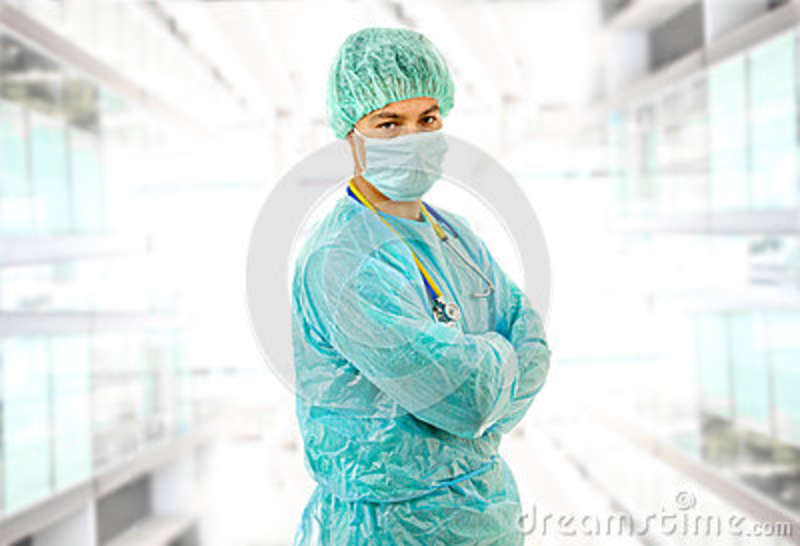mask: (357, 127, 458, 212)
